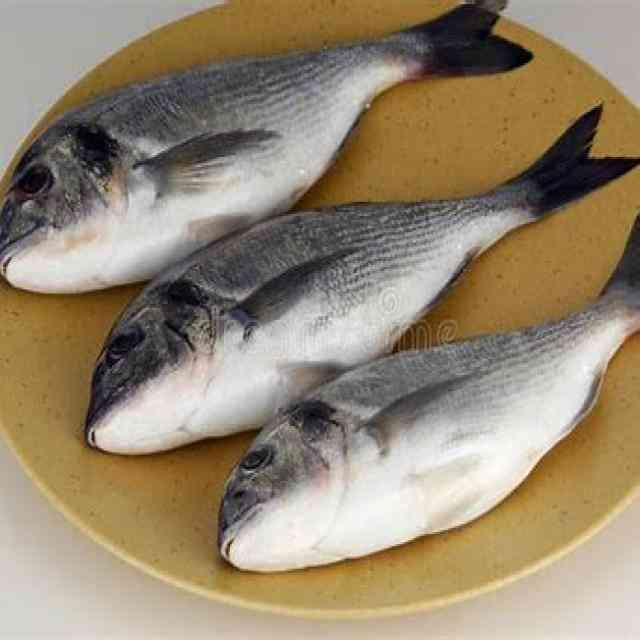Healthy Fish: (0, 1, 640, 564)
